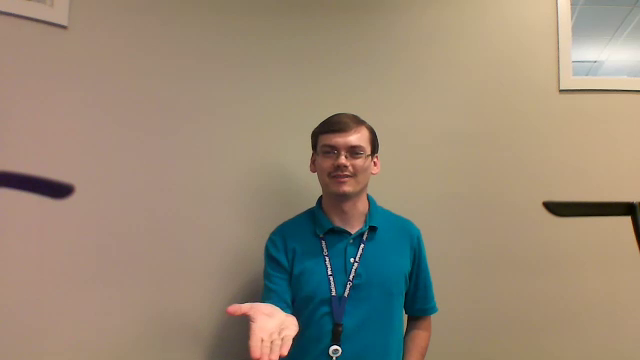land: (221, 291, 307, 360)
